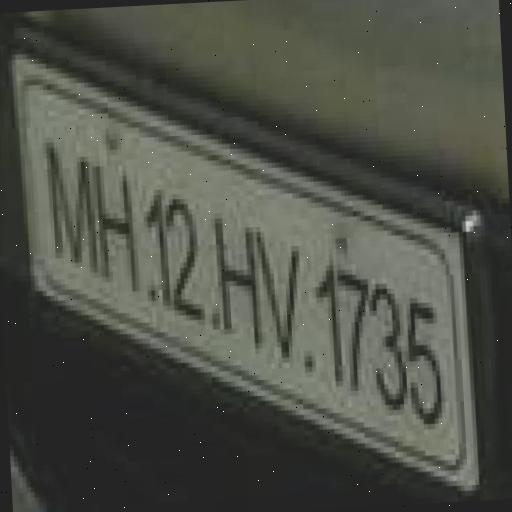number plate: (0, 56, 487, 451)
